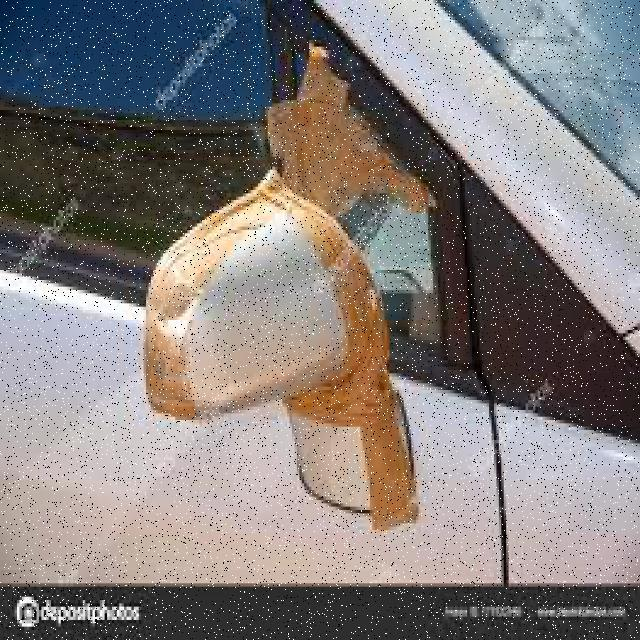Sidemirror-Damage: (100, 167, 392, 460)
